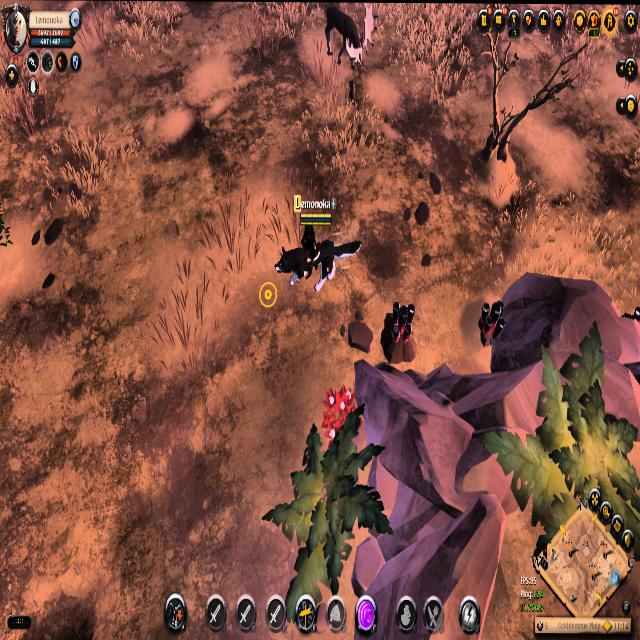fiber tier 5: (322, 380, 363, 440)
ore tier 5: (382, 291, 418, 369), (474, 293, 508, 352)
